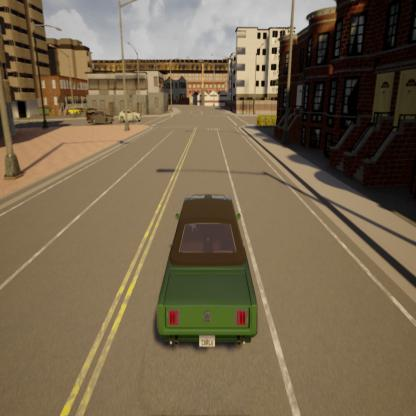Cars: (139, 181, 268, 368), (115, 104, 143, 124), (84, 105, 115, 121), (67, 106, 82, 118)
